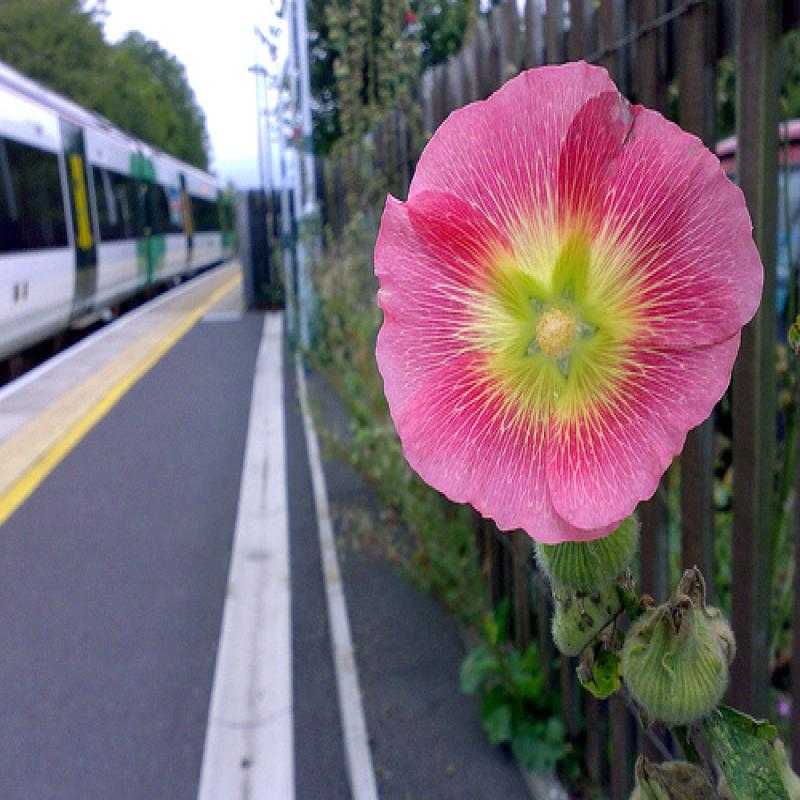train: (3, 63, 241, 390)
